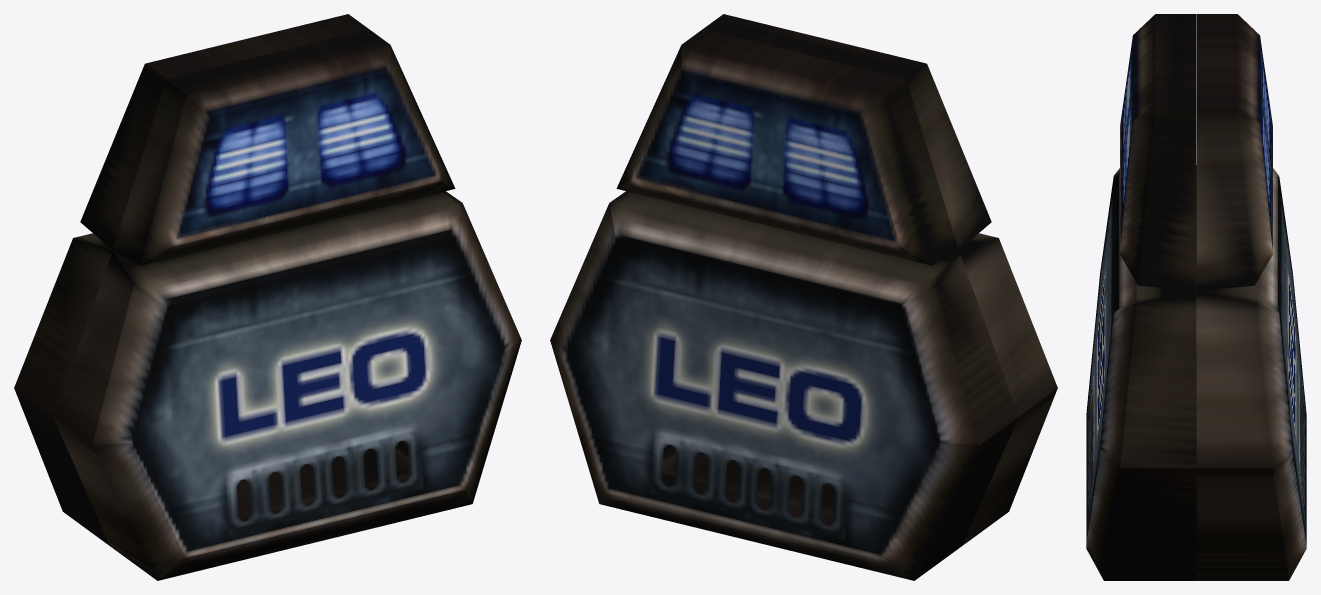
The model's file is datan_common_d045e290.obj.
3 views of the same model, side by side, from view 1: azimuth 30°, elevation 25°; view 2: azimuth 150°, elevation 25°; view 3: azimuth 270°, elevation 25° (orthographic). The views are drawn at different scales.
Parts seen in each view (by area): view 1: datan_common_d045e290_mesh00, datan_common_d045e290_mesh02, datan_common_d045e290_mesh01; view 2: datan_common_d045e290_mesh01, datan_common_d045e290_mesh02, datan_common_d045e290_mesh00; view 3: datan_common_d045e290_mesh02, datan_common_d045e290_mesh00, datan_common_d045e290_mesh01.
Part boxes in pixels (left/top/right/bottom): datan_common_d045e290_mesh00: left=53, top=191, right=521, bottom=580; datan_common_d045e290_mesh02: left=80, top=14, right=455, bottom=265; datan_common_d045e290_mesh01: left=14, top=233, right=409, bottom=545; datan_common_d045e290_mesh01: left=550, top=191, right=1018, bottom=580; datan_common_d045e290_mesh02: left=616, top=14, right=991, bottom=265; datan_common_d045e290_mesh00: left=662, top=233, right=1057, bottom=545; datan_common_d045e290_mesh02: left=1120, top=14, right=1272, bottom=290; datan_common_d045e290_mesh00: left=1086, top=168, right=1196, bottom=580; datan_common_d045e290_mesh01: left=1196, top=165, right=1306, bottom=580.
Size of the model in its own units: 11.96 by 12.07 by 5.44.
Materials: 1 (1 with a texture image).
